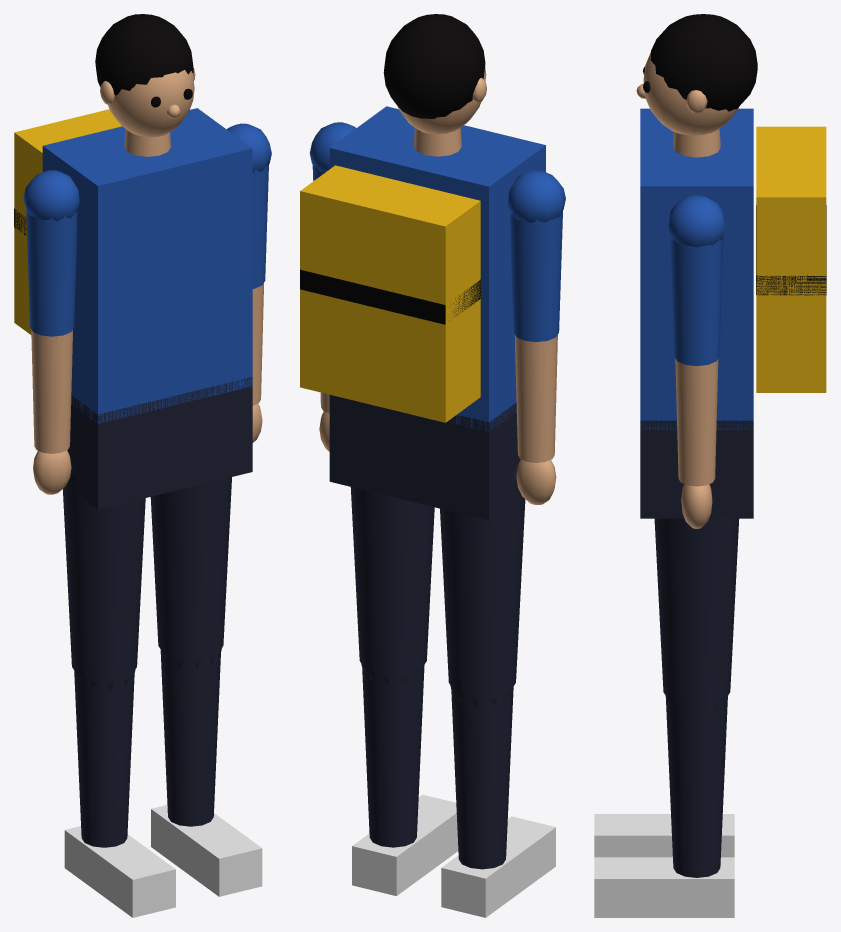
File: human.glb
3 views of the same model, side by side, from view 1: azimuth 30°, elevation 25°; view 2: azimuth 150°, elevation 25°; view 3: azimuth 270°, elevation 25° (orthographic). The views are drawn at different scales.
Parts seen in each view (by area): view 1: Human_Torso, Human_Pelvis, Human_Hip_R, Human_Hip_L, Human_Head, Human_Knee_R, Human_Knee_L, Human_Ankle_R, Human_Ankle_L, Human_Shoulder_R, Human_Backpack, Human_Elbow_R (+3 smaller); view 2: Human_Backpack, Human_Torso, Human_Pelvis, Human_Hip_R, Human_Hip_L, Human_Head, Human_Knee_L, Human_Knee_R, Human_Ankle_R, Human_Shoulder_R, Human_Ankle_L, Human_Elbow_R (+1 smaller); view 3: Human_Torso, Human_Backpack, Human_Hip_L, Human_Head, Human_Knee_L, Human_Pelvis, Human_Ankle_L, Human_Shoulder_L, Human_Elbow_L, Human_Ankle_R, Human_Wrist_L.
Boxes of the visible parts, <box> form: Human_Torso: <box>23,108,271,423</box>; Human_Pelvis: <box>67,377,252,509</box>; Human_Hip_R: <box>63,455,145,680</box>; Human_Hip_L: <box>150,477,231,659</box>; Human_Head: <box>95,14,195,137</box>; Human_Knee_R: <box>74,669,135,847</box>; Human_Knee_L: <box>160,648,221,826</box>; Human_Ankle_R: <box>64,826,175,917</box>; Human_Ankle_L: <box>151,805,262,896</box>; Human_Shoulder_R: <box>26,209,77,336</box>; Human_Backpack: <box>14,109,121,334</box>; Human_Elbow_R: <box>31,330,72,453</box>; Human_Backpack: <box>300,165,480,422</box>; Human_Torso: <box>309,106,565,431</box>; Human_Pelvis: <box>329,395,520,520</box>; Human_Hip_R: <box>440,464,525,696</box>; Human_Hip_L: <box>350,487,434,674</box>; Human_Head: <box>383,14,486,134</box>; Human_Knee_L: <box>361,664,424,847</box>; Human_Knee_R: <box>450,685,513,869</box>; Human_Ankle_R: <box>441,816,555,917</box>; Human_Shoulder_R: <box>510,211,562,341</box>; Human_Ankle_L: <box>352,794,458,895</box>; Human_Elbow_R: <box>514,334,557,462</box>; Human_Torso: <box>640,108,753,430</box>; Human_Backpack: <box>756,126,826,392</box>; Human_Hip_L: <box>654,518,739,706</box>; Human_Head: <box>636,14,757,135</box>; Human_Knee_L: <box>665,696,727,877</box>; Human_Pelvis: <box>640,420,753,518</box>; Human_Ankle_L: <box>594,857,734,917</box>; Human_Shoulder_L: <box>670,237,723,365</box>; Human_Elbow_L: <box>675,359,718,486</box>; Human_Ankle_R: <box>594,814,734,857</box>; Human_Wrist_L: <box>681,484,712,528</box>.
Bounding box in the file's own units: 0.53 × 1.78 × 0.4305.
